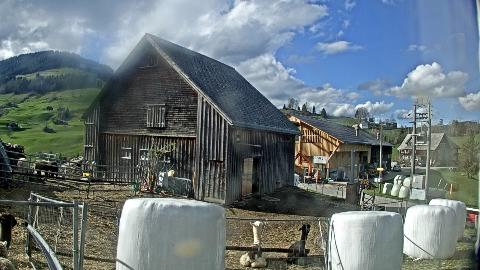car: (392, 164, 402, 172), (418, 161, 426, 167)
sheep: (239, 220, 267, 268), (286, 222, 312, 266), (0, 212, 17, 244), (0, 238, 16, 270), (314, 230, 330, 250), (17, 157, 29, 180), (33, 162, 49, 178), (50, 161, 58, 179), (252, 176, 256, 186)
